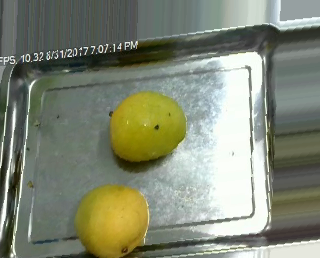Mango: (75, 184, 149, 256), (111, 92, 186, 162)
